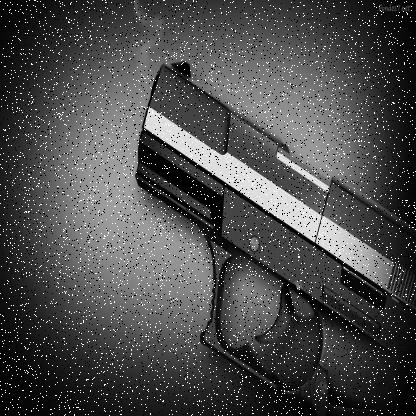pistol: (140, 52, 415, 416)
